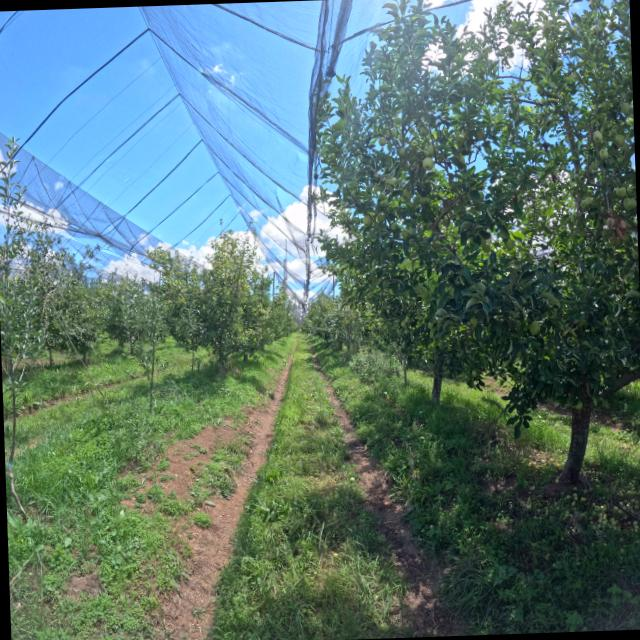-FireBlight-: (599, 207, 627, 244)
